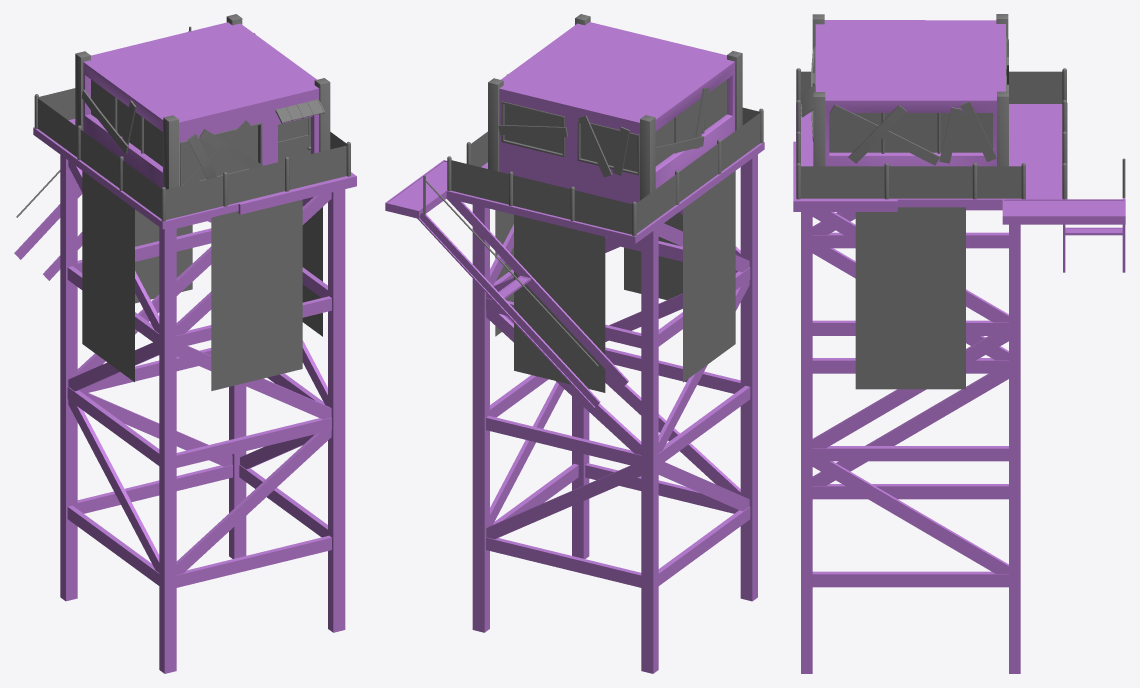
File: tourdeguet.fbx
3 views of the same model, side by side, from view 1: azimuth 30°, elevation 25°; view 2: azimuth 150°, elevation 25°; view 3: azimuth 270°, elevation 25° (orthographic). The views are drawn at different scales.
Parts seen in each view (by area): view 1: Plane.001, stairs_main; view 2: Plane.001, stairs_main, stairs_joint; view 3: Plane.001, stairs_joint, stairs_step.
Part boxes in pixels (x1,y1,x2,y2): Plane.001: (33,14,356,673); stairs_main: (14,185,82,280); Plane.001: (446,14,764,673); stairs_main: (417,198,628,408); stairs_joint: (385,160,447,218); Plane.001: (793,14,1067,673); stairs_joint: (1002,199,1125,224); stairs_step: (1065,227,1122,235).
Size of the model in its own units: 774 by 955 by 1815.
